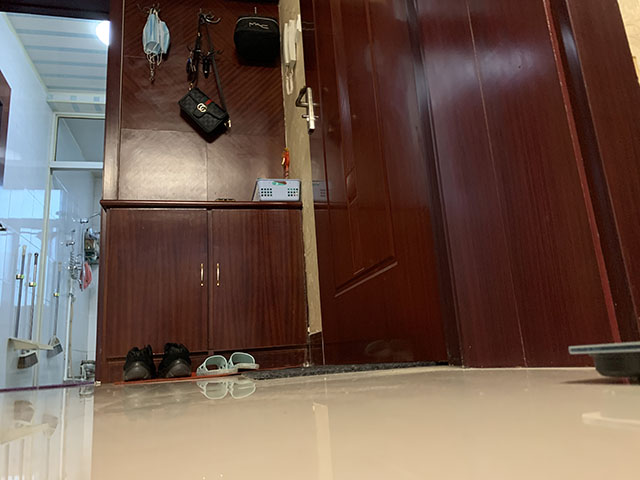cabinet: (92, 199, 310, 385)
carpet: (111, 363, 307, 386), (242, 362, 447, 381), (1, 381, 89, 393)
slippers: (195, 353, 235, 378), (229, 350, 260, 370)
